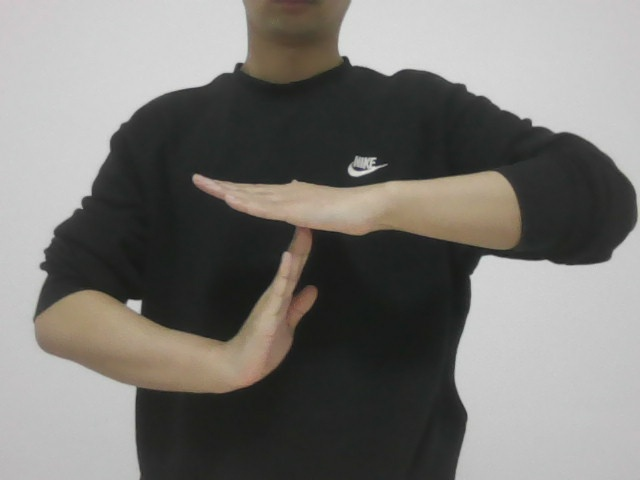stop: (155, 153, 414, 402)
